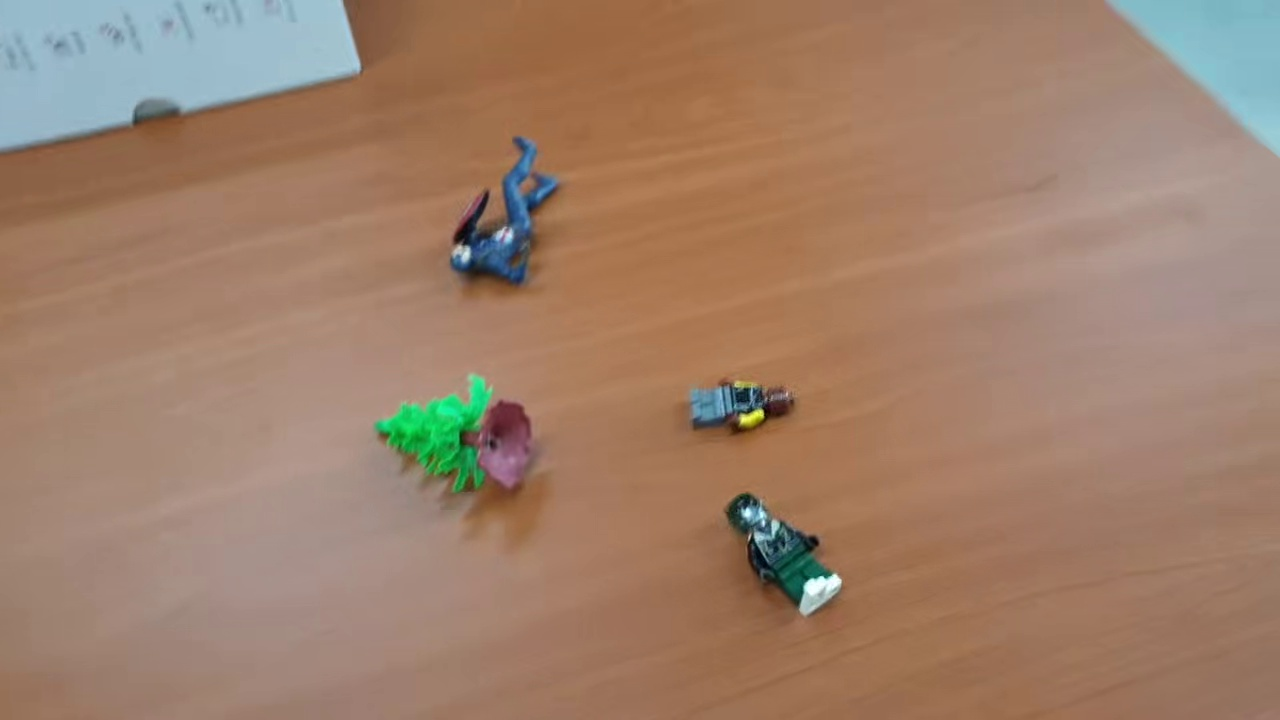people: (443, 132, 563, 293), (723, 493, 844, 619), (691, 376, 796, 439)
tree: (379, 372, 540, 496)
